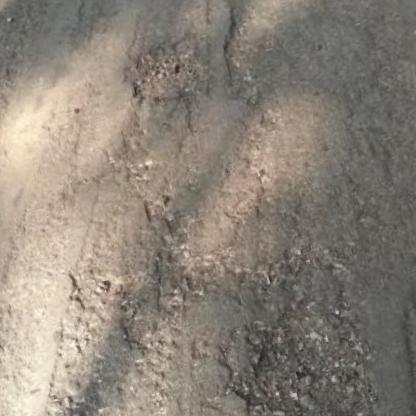pothole: (216, 288, 402, 416), (117, 26, 215, 114)
